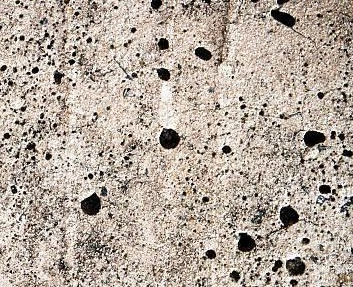Spalling: (1, 1, 353, 287)
